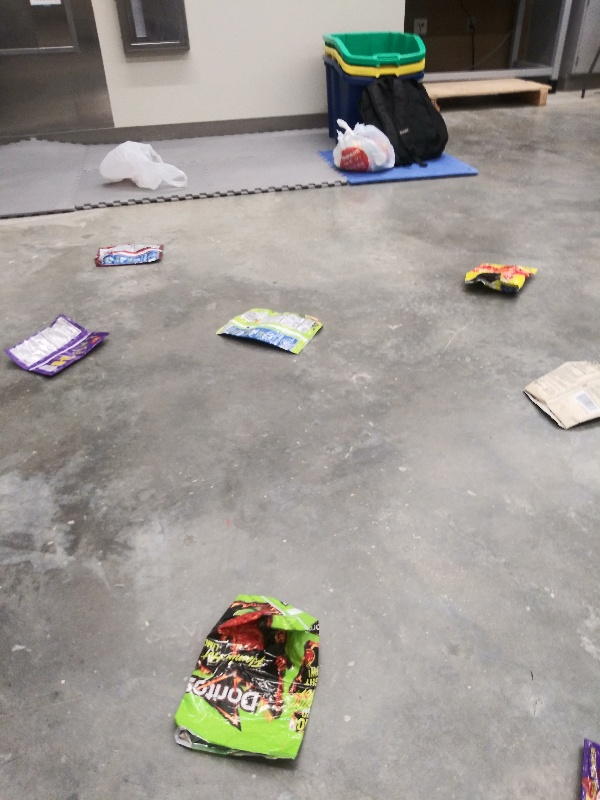bag: (165, 589, 331, 772), (6, 311, 117, 385), (518, 354, 600, 433), (210, 306, 326, 359), (458, 258, 542, 305), (86, 237, 168, 269), (576, 730, 600, 795)
